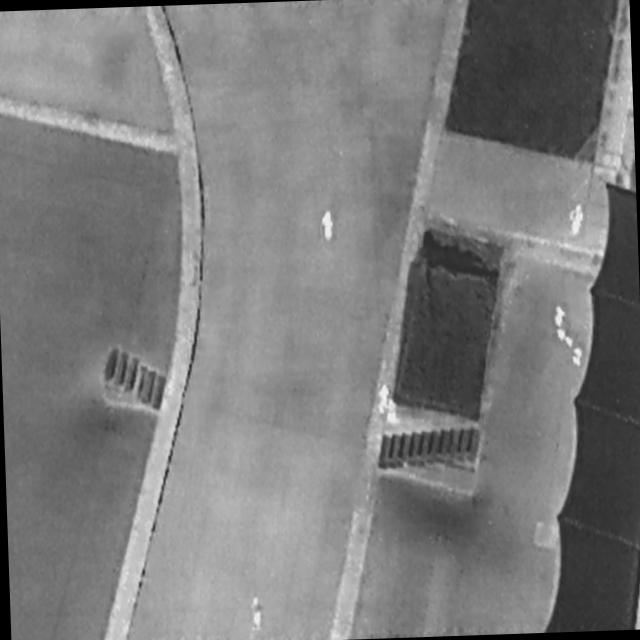person: (566, 200, 587, 240), (320, 208, 335, 244), (375, 381, 391, 413), (252, 598, 265, 631), (386, 399, 400, 424)
